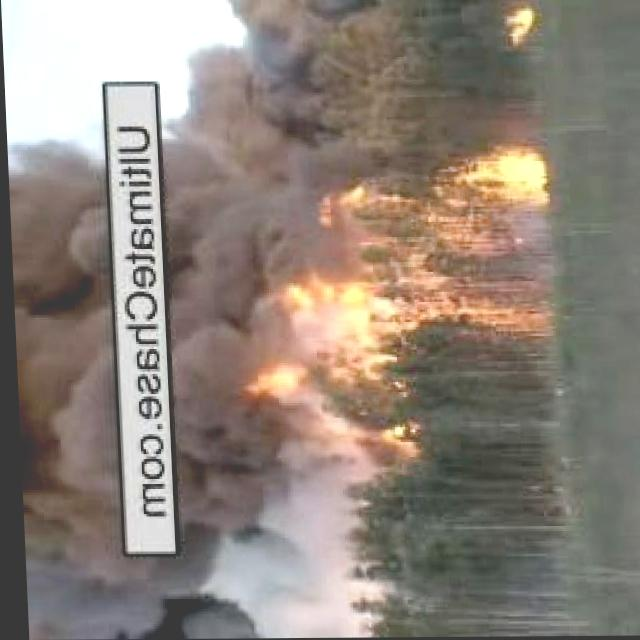Fire: (268, 146, 551, 335), (221, 365, 412, 478), (498, 3, 535, 49)
Smoke: (154, 46, 259, 639), (5, 135, 120, 640), (256, 478, 372, 639)
